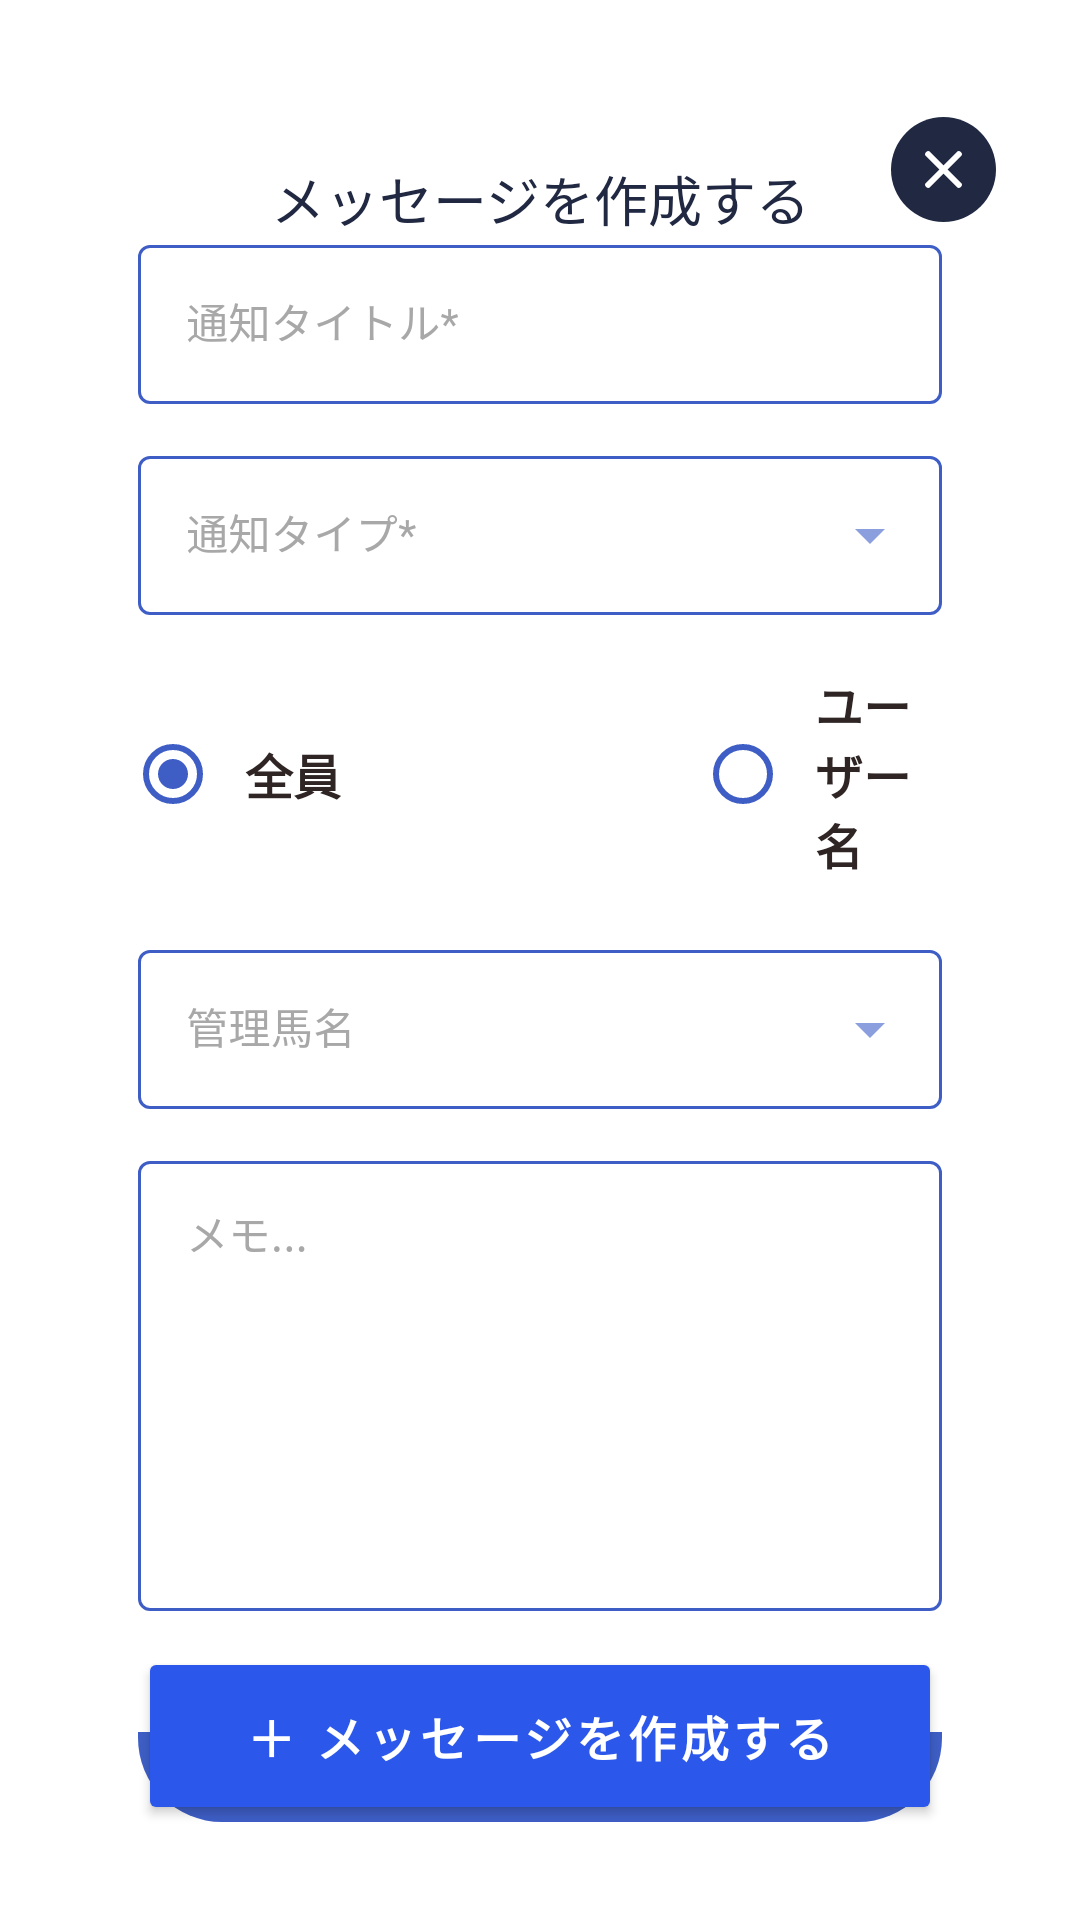

Named icons in this screenshot (1080w x 1920h) and their bounding boxes, (x1, y1, x2, y2):
close: (891, 117, 996, 222)
